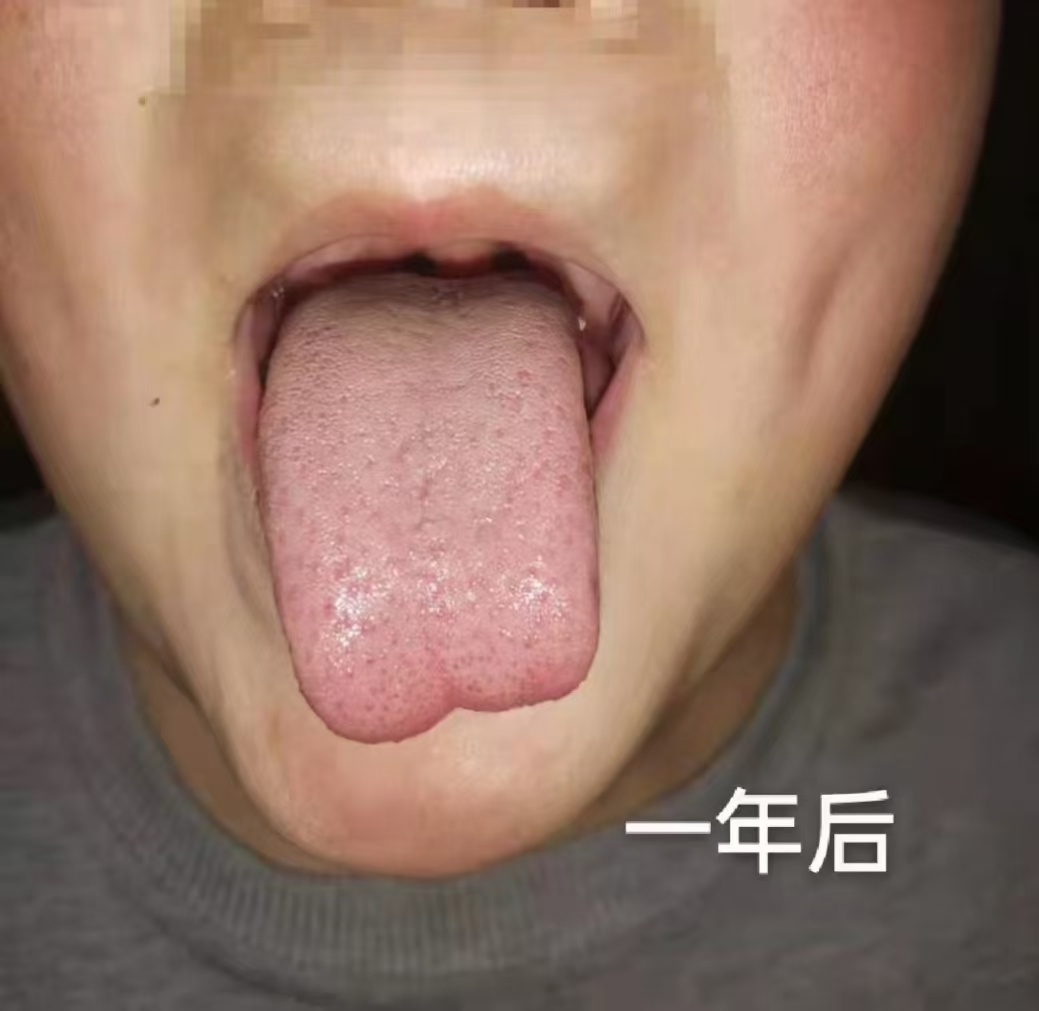baitaishe: (259, 272, 600, 744)
